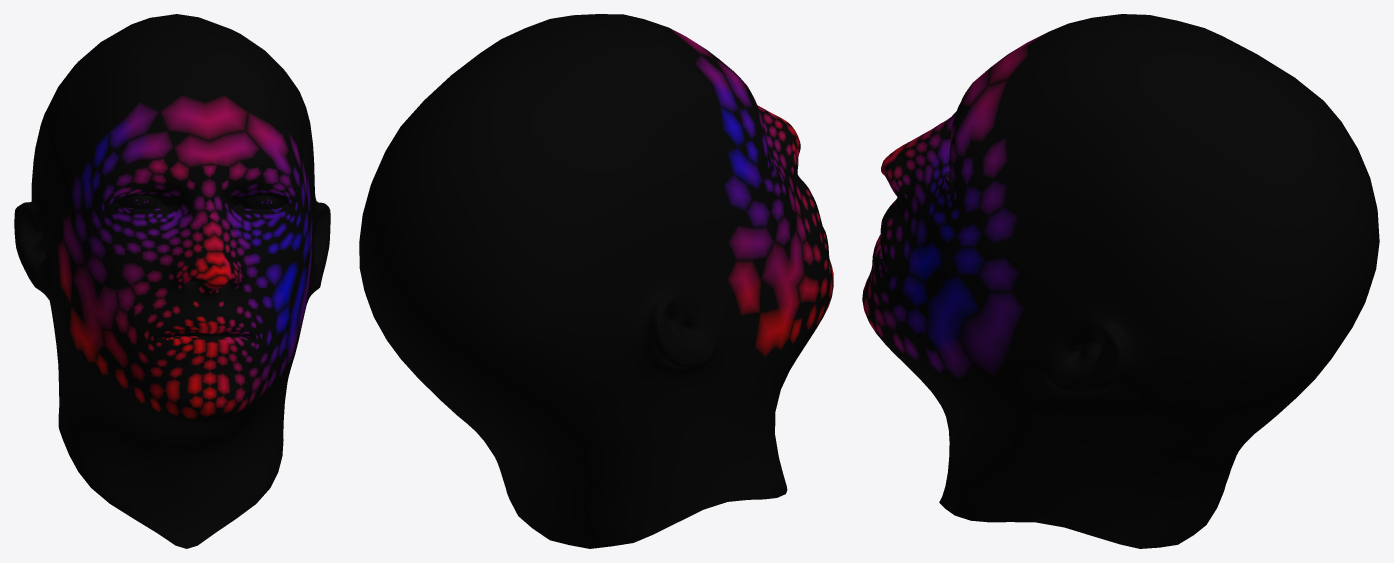
File: colored_right.obj
3 views of the same model, side by side, from view 1: azimuth 30°, elevation 25°; view 2: azimuth 150°, elevation 25°; view 3: azimuth 270°, elevation 25° (orthographic). The views are drawn at different scales.
Bounding box in the file's own units: 0.9105 × 1.36 × 1.24.
